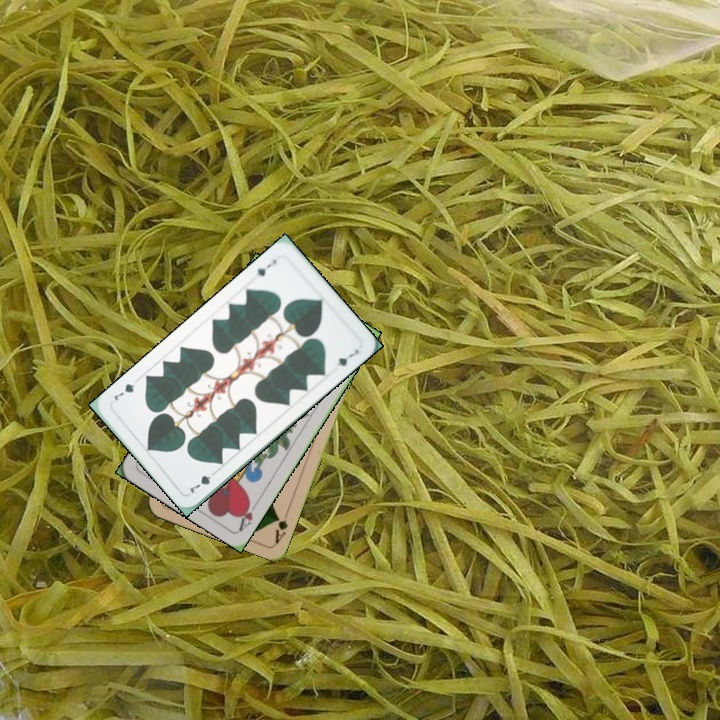G7: (186, 466, 220, 496), (253, 255, 279, 279)
GA: (271, 506, 291, 546)
HA: (235, 496, 261, 533)
